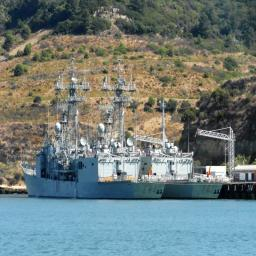Fragata: (18, 51, 169, 204), (96, 63, 229, 202)
